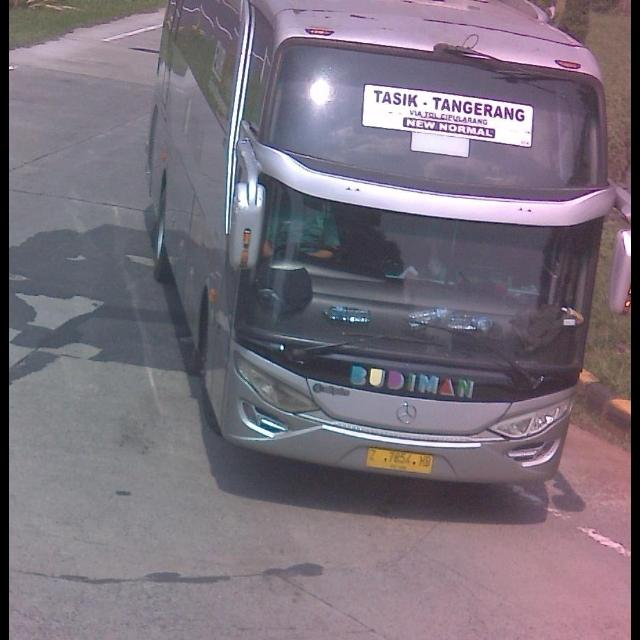plate: (364, 443, 438, 475)
